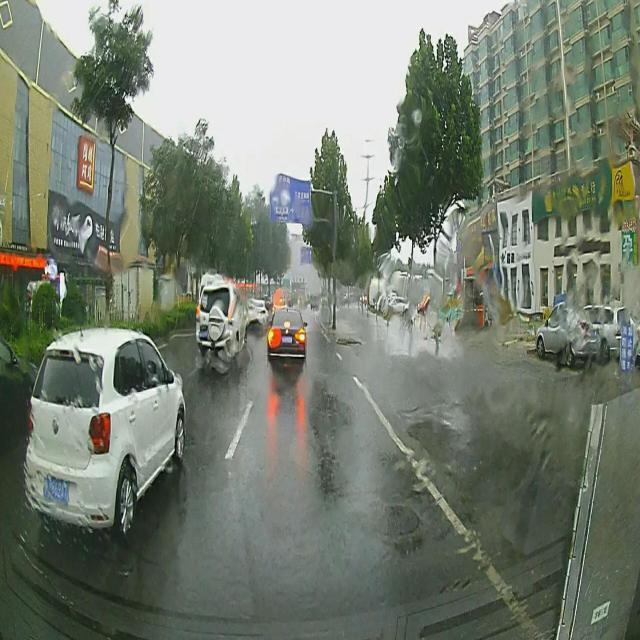car: (24, 323, 184, 533), (192, 284, 245, 346), (538, 305, 594, 361), (269, 304, 307, 368)
